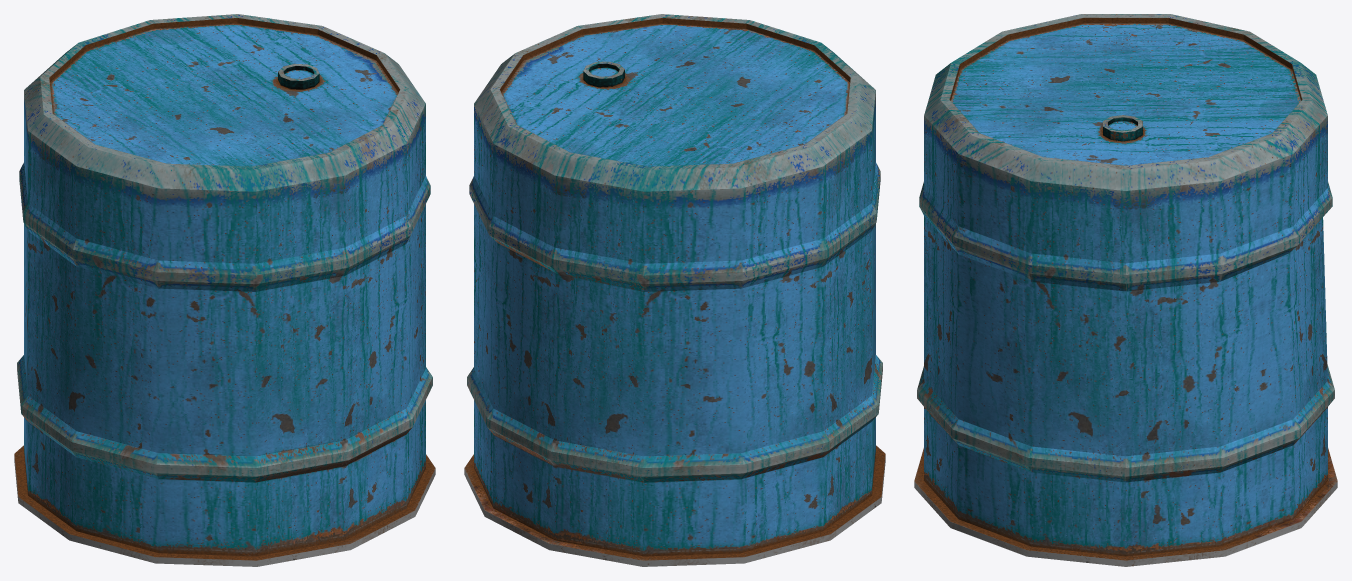
File: Textured Barrel1_Test.fbx
3 views of the same model, side by side, from view 1: azimuth 30°, elevation 25°; view 2: azimuth 150°, elevation 25°; view 3: azimuth 270°, elevation 25° (orthographic).
Visible parts, largest first — view 1: pCylinder4; view 2: pCylinder4; view 3: pCylinder4.
Part boxes in pixels (bbox=[...]): pCylinder4: bbox=[14, 14, 435, 566]; pCylinder4: bbox=[464, 14, 885, 566]; pCylinder4: bbox=[914, 14, 1337, 566].
Bounding box in the file's own units: 3.05 × 3.12 × 3.08.
